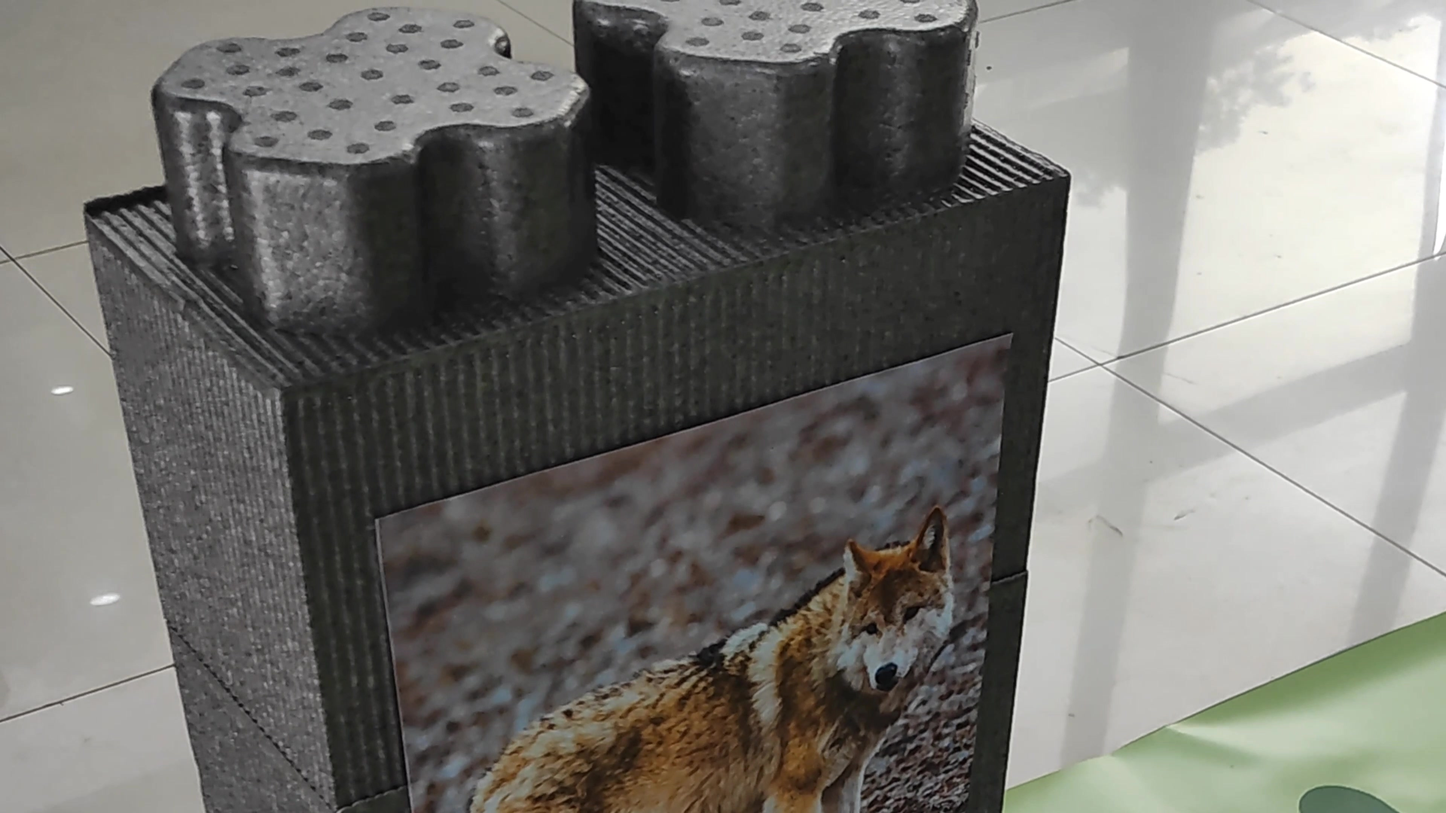wolf: (404, 489, 986, 792)
